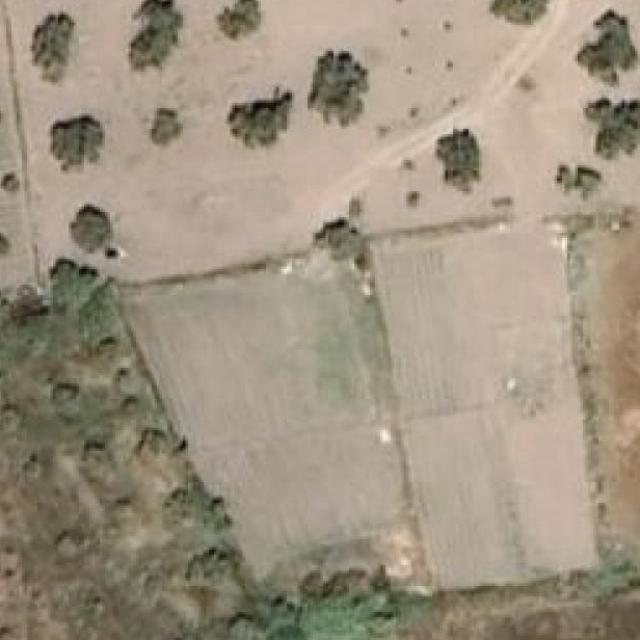Tree: (575, 9, 640, 87), (307, 51, 368, 127), (227, 82, 294, 150), (29, 9, 84, 88), (128, 0, 183, 70), (434, 126, 484, 196), (585, 98, 640, 160), (312, 217, 377, 269), (48, 116, 105, 174), (68, 204, 118, 260), (47, 254, 91, 308), (554, 165, 604, 202), (495, 0, 560, 27), (185, 548, 230, 587), (220, 0, 261, 38), (152, 108, 188, 148), (138, 430, 172, 470), (53, 380, 87, 415), (228, 609, 266, 640), (81, 444, 112, 475), (1, 174, 20, 198), (406, 191, 427, 212), (0, 228, 15, 256), (515, 74, 536, 92)
